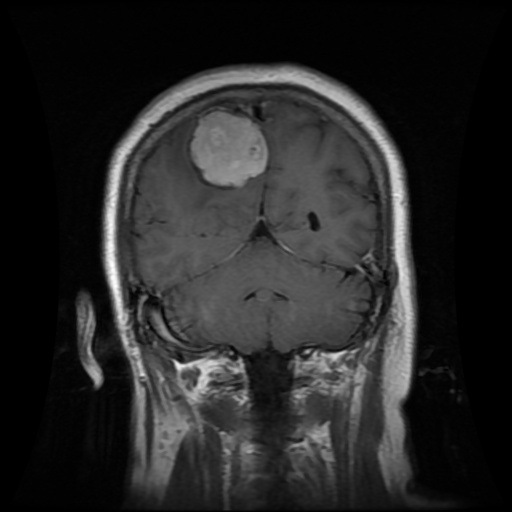meningioma: (188, 108, 269, 188)
